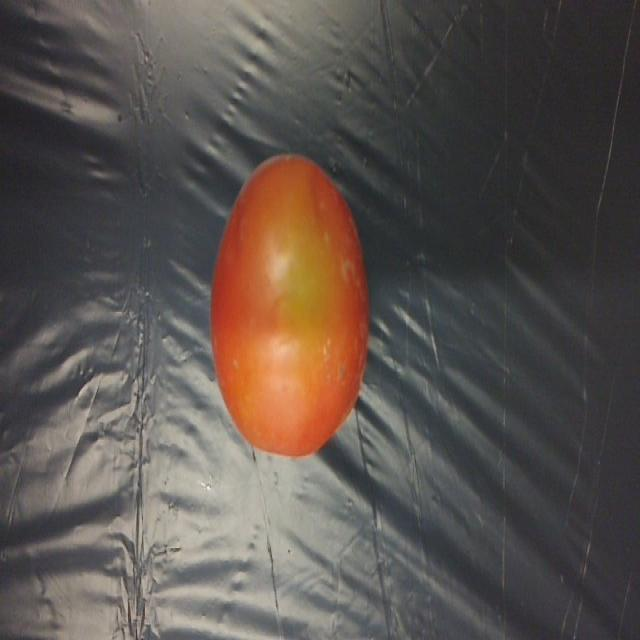sari: (197, 134, 387, 472)
